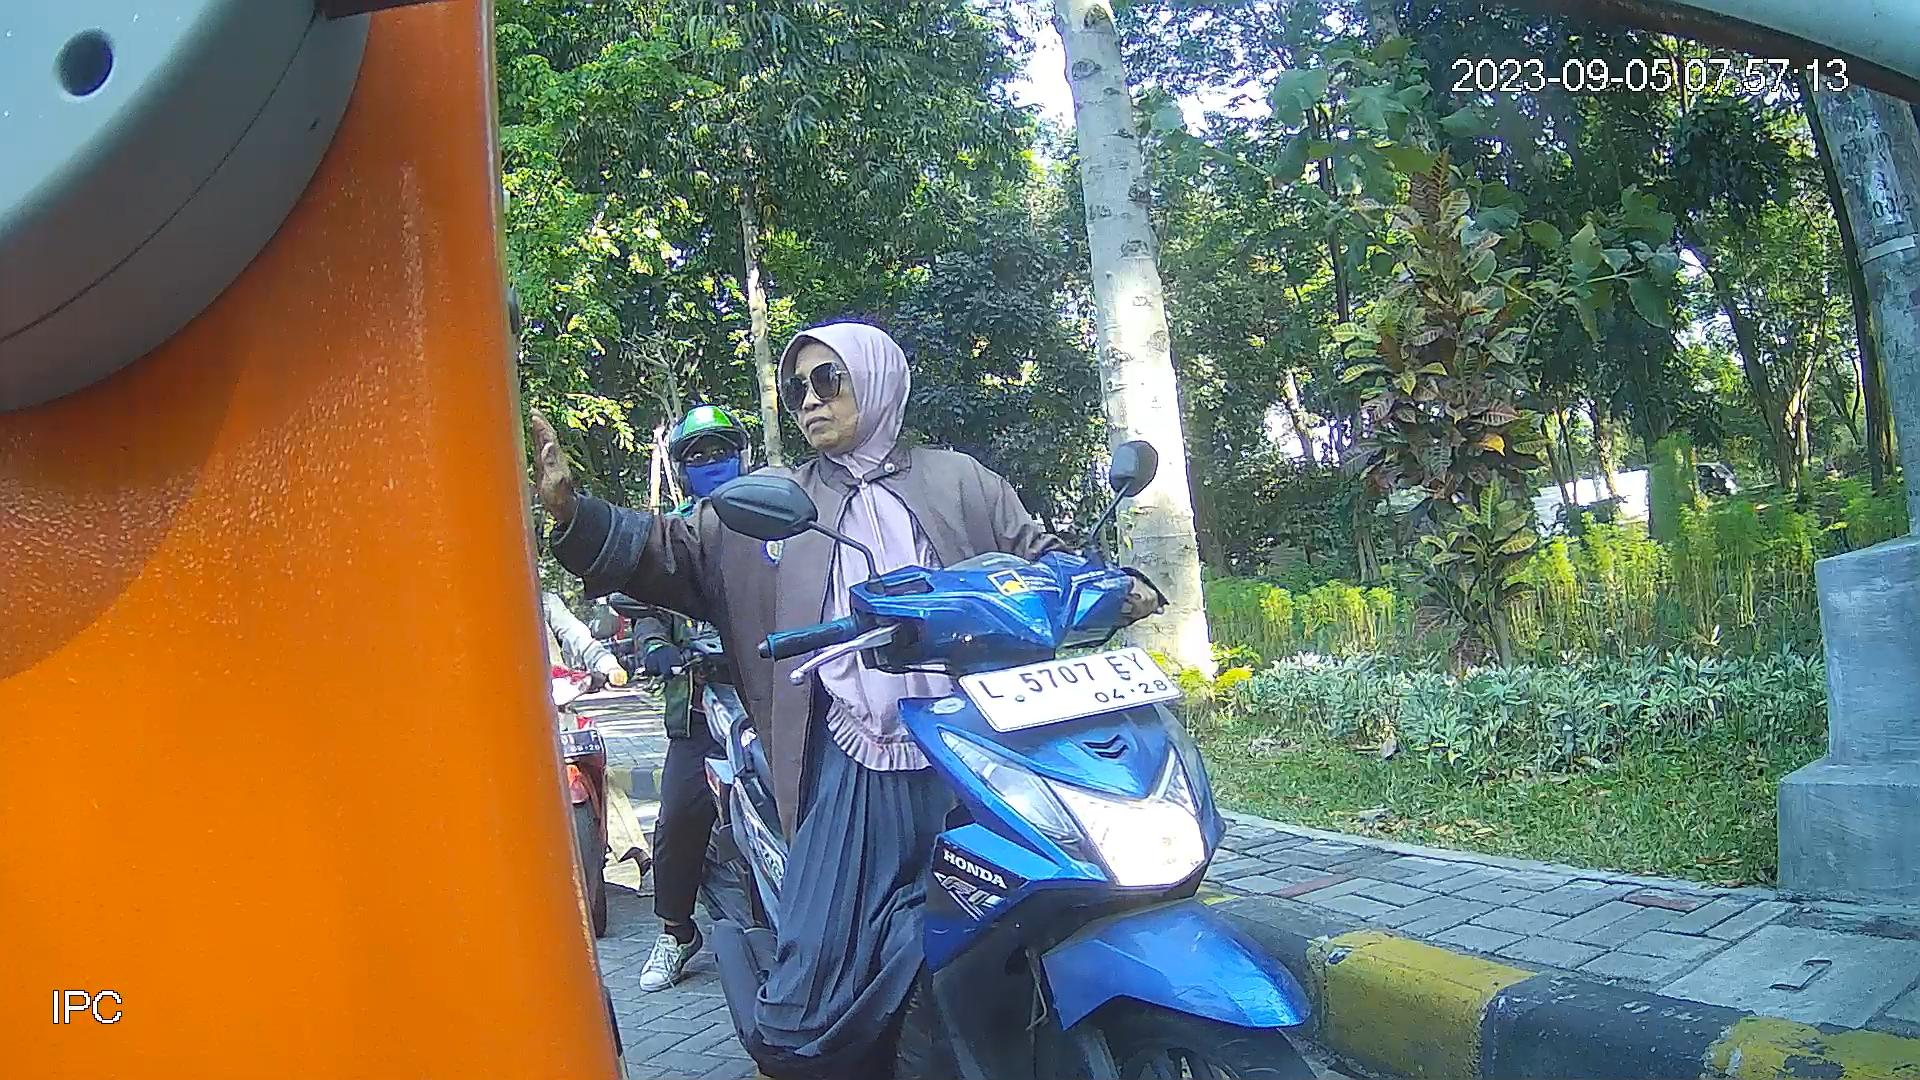plat: (951, 642, 1189, 737)
